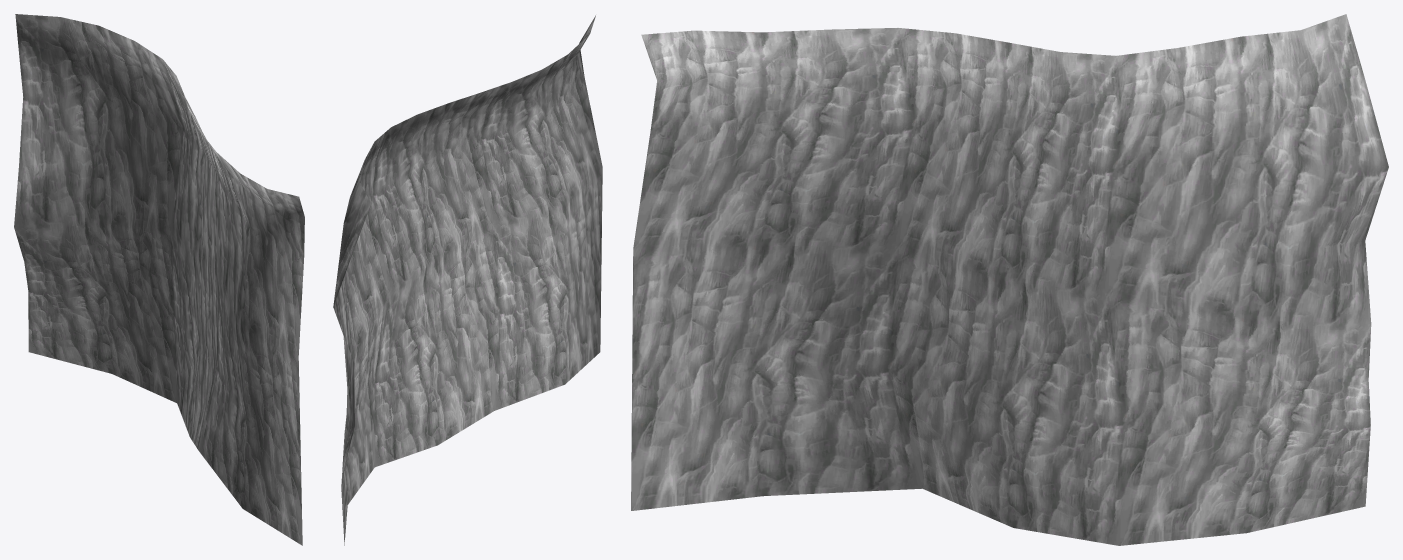
The model's file is SWORDLIGHT20_PS-AREA03_72.fbx.
The picture shows the model from 3 angles, left to right: view 1: azimuth 30°, elevation 25°; view 2: azimuth 150°, elevation 25°; view 3: azimuth 270°, elevation 25°; orthographic projection. The views are drawn at different scales.
Visible parts, largest first — view 1: SWORDLIGHT20_PS-AREA03_72; view 2: SWORDLIGHT20_PS-AREA03_72; view 3: SWORDLIGHT20_PS-AREA03_72.
Boxes of the visible parts, x1,y1,x2,y2 form: SWORDLIGHT20_PS-AREA03_72: [14, 14, 304, 545]; SWORDLIGHT20_PS-AREA03_72: [333, 15, 602, 545]; SWORDLIGHT20_PS-AREA03_72: [631, 14, 1388, 545].
Bounding box in the file's own units: 36735 × 149254 × 210768.
1 material, 1 textured.
